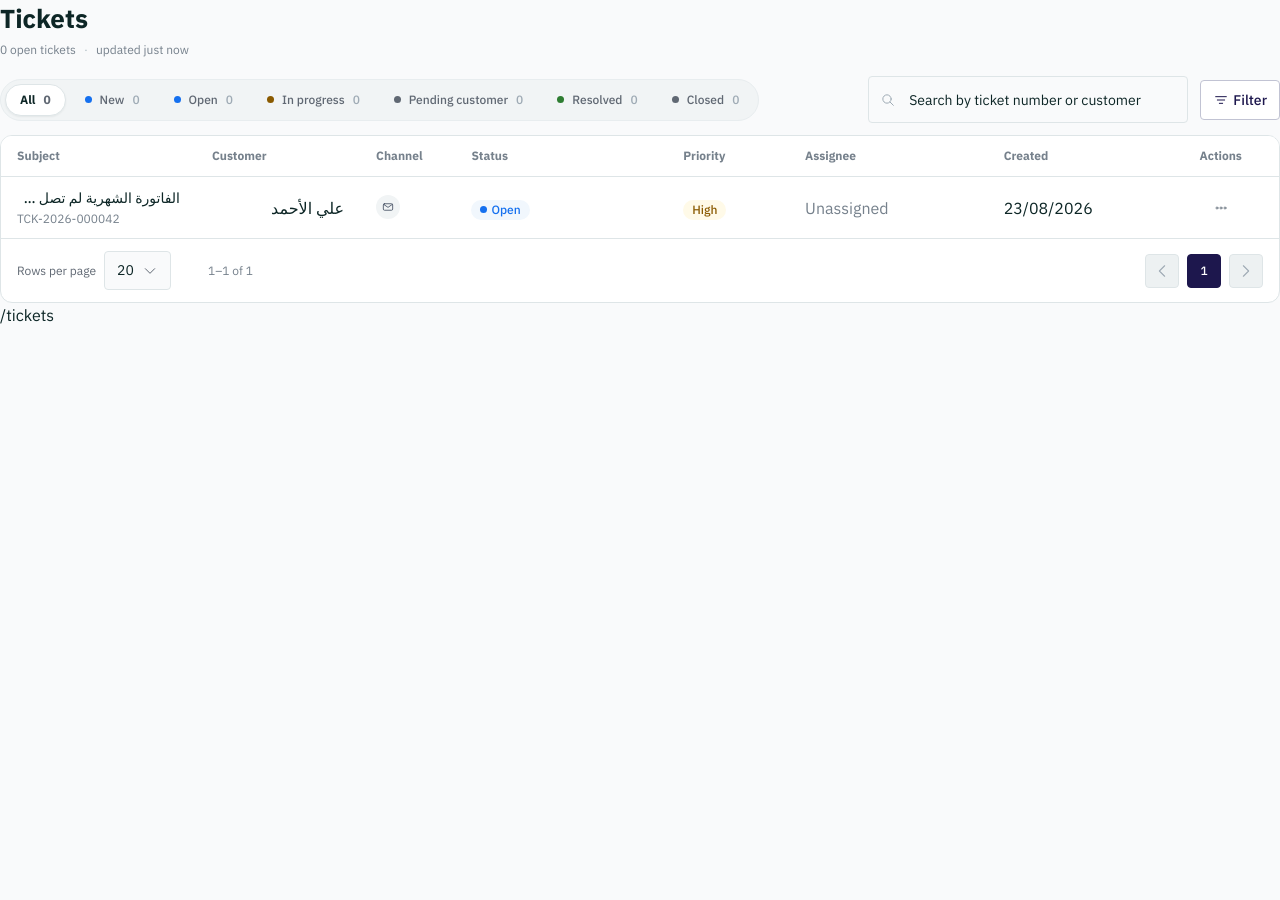
it: AC-2 — «إعادة الإسناد» acts in place and does not navigate › opens the picker and leaves the route alone
Click the button named "Ticket actions" at x=1221, y=208, box [1206, 193, 1236, 223]
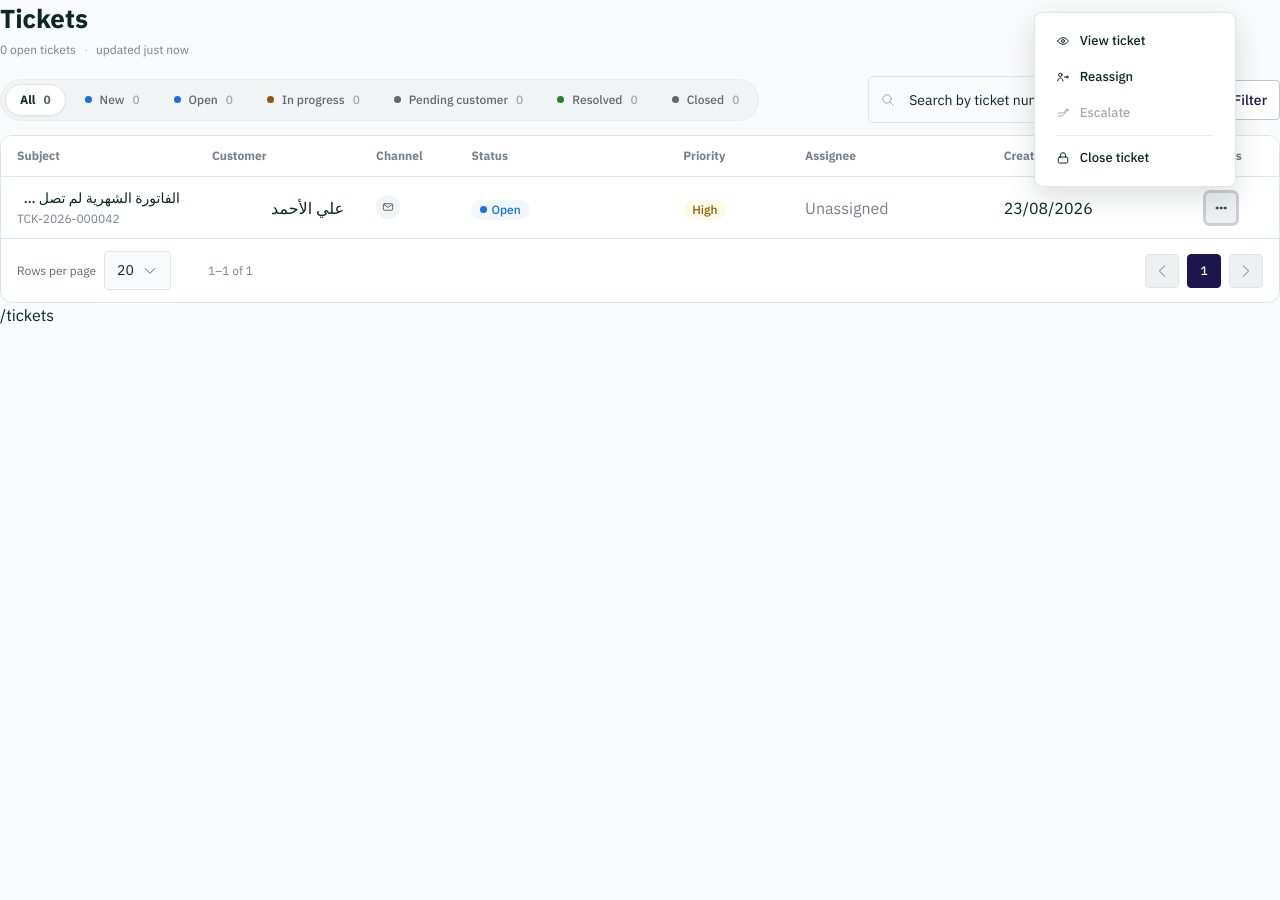
Click the menu item "Reassign" at x=1135, y=77, box [1045, 59, 1225, 95]
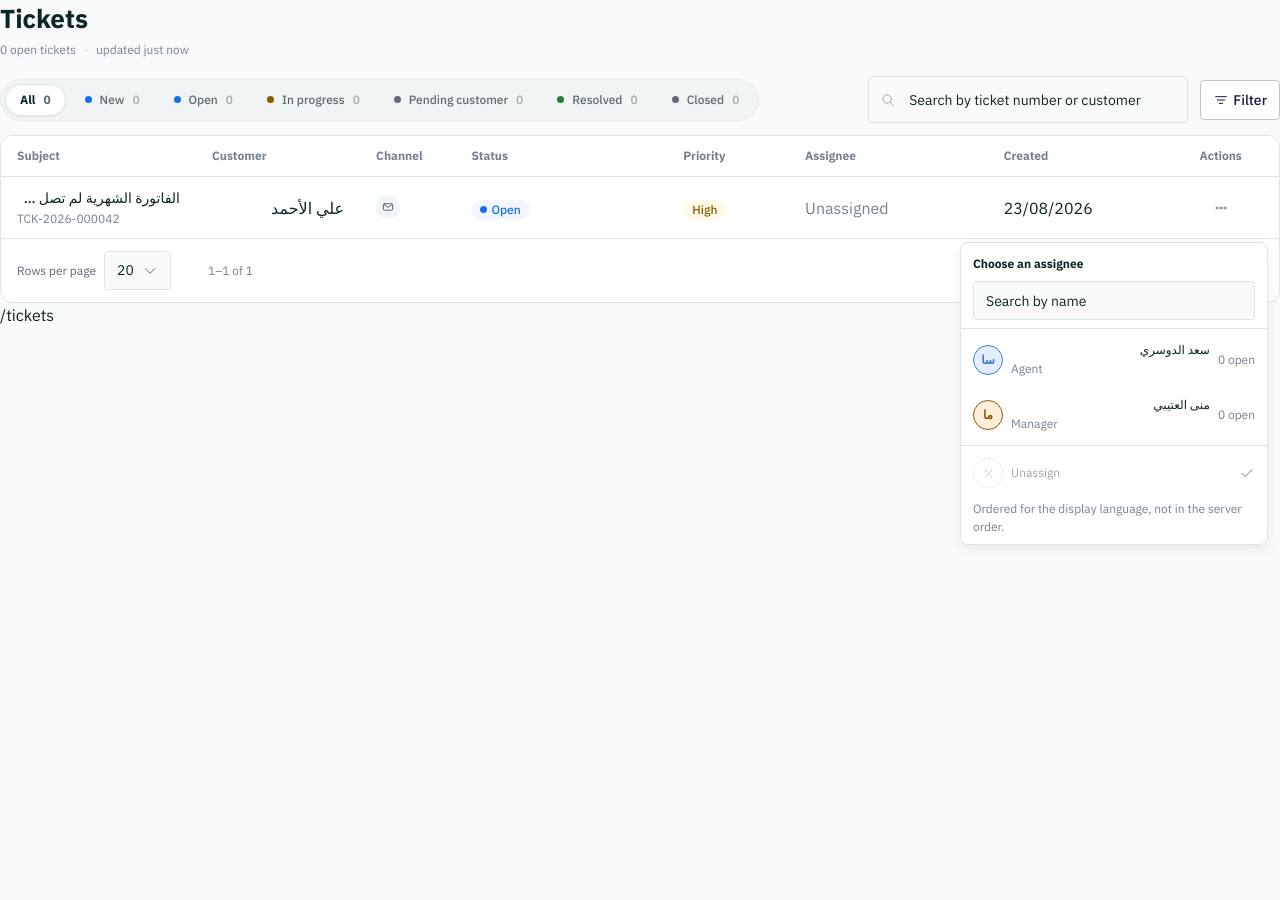
Expected: the text with test id "pathname" reads "/tickets", [0, 306, 54, 326]
Expected: the text "سعد الدوسري" is shown, [1140, 342, 1210, 358]
